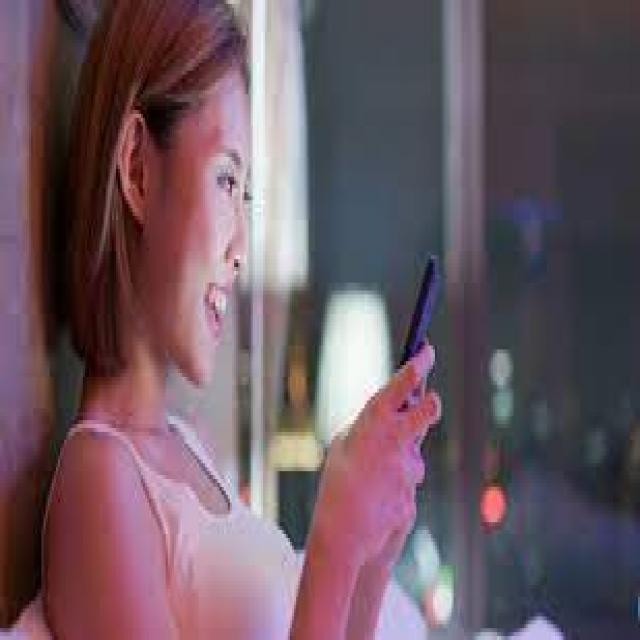Phone: (396, 255, 447, 362)
